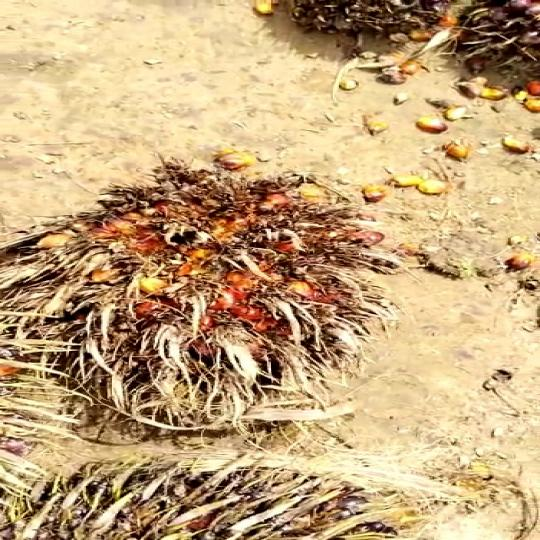terlalu masak: (0, 140, 480, 448)
